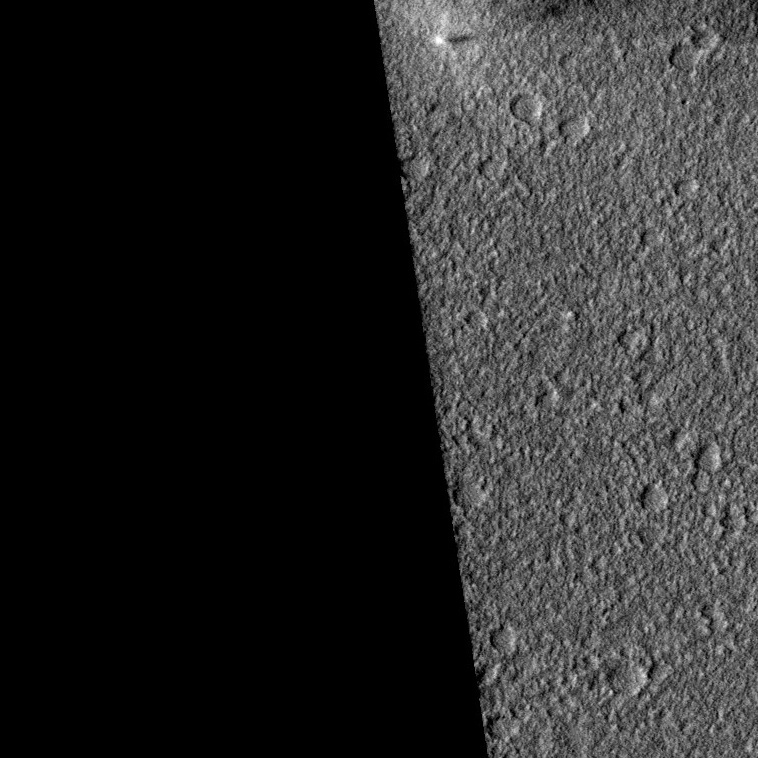dust_devil: (430, 32, 474, 48)
